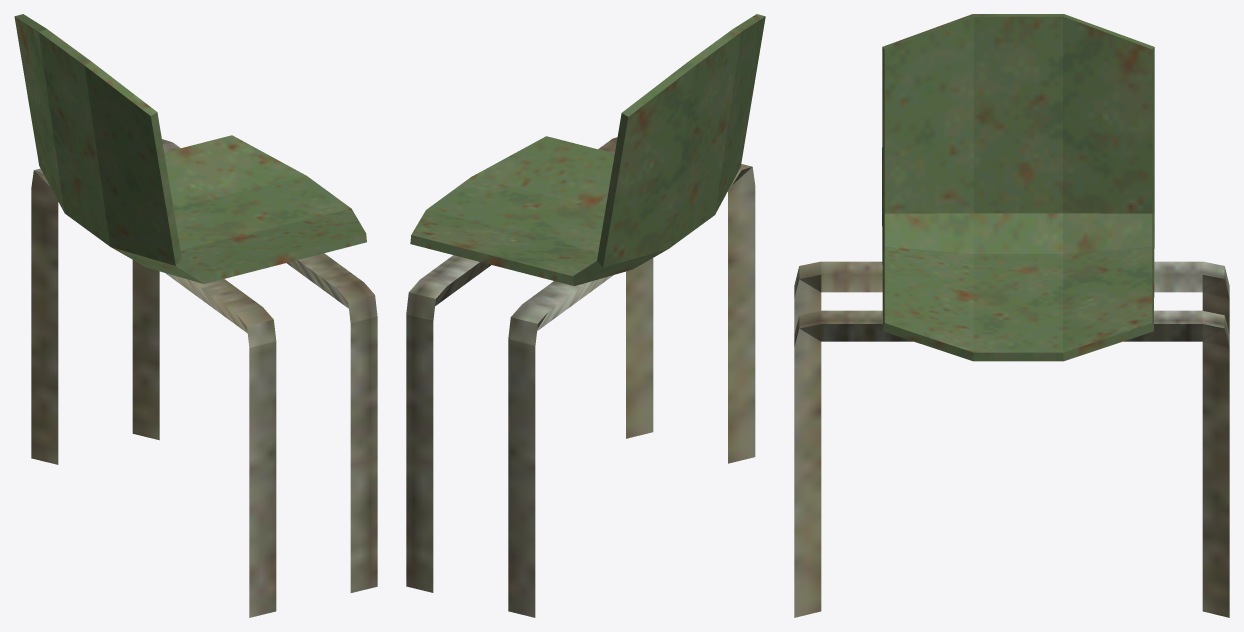
File: Urban_BusstopSingleSeat_Model.fbx
3 views of the same model, side by side, from view 1: azimuth 30°, elevation 25°; view 2: azimuth 150°, elevation 25°; view 3: azimuth 270°, elevation 25° (orthographic).
Parts seen in each view (by area): view 1: Urban_BusstopSingleSeat_Mesh; view 2: Urban_BusstopSingleSeat_Mesh; view 3: Urban_BusstopSingleSeat_Mesh.
Part boxes in pixels (x1,y1,x2,y2): Urban_BusstopSingleSeat_Mesh: (14, 14, 377, 617); Urban_BusstopSingleSeat_Mesh: (406, 14, 765, 617); Urban_BusstopSingleSeat_Mesh: (794, 14, 1229, 617).
Size of the model in its own units: 0.692 by 1.25 by 0.9766.
